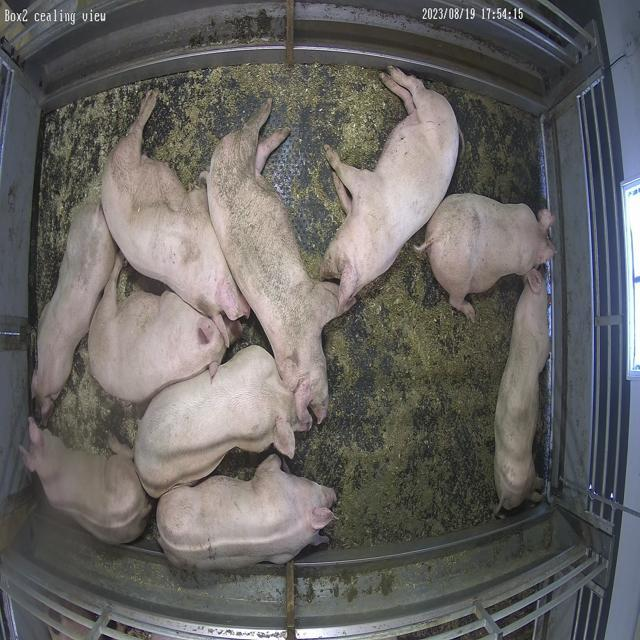Dirt: (32, 65, 405, 310), (292, 234, 522, 548), (436, 85, 544, 208), (48, 348, 139, 450)
Pig: (207, 99, 338, 432), (101, 91, 250, 330), (321, 66, 460, 310), (134, 348, 297, 498), (156, 456, 337, 572), (89, 258, 226, 404), (31, 200, 116, 420), (417, 193, 556, 320), (20, 418, 152, 545), (495, 269, 551, 514)
